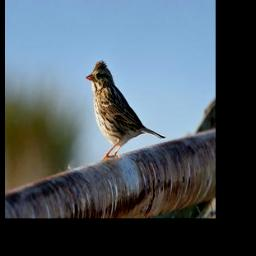Sparrow: (85, 59, 166, 159)
